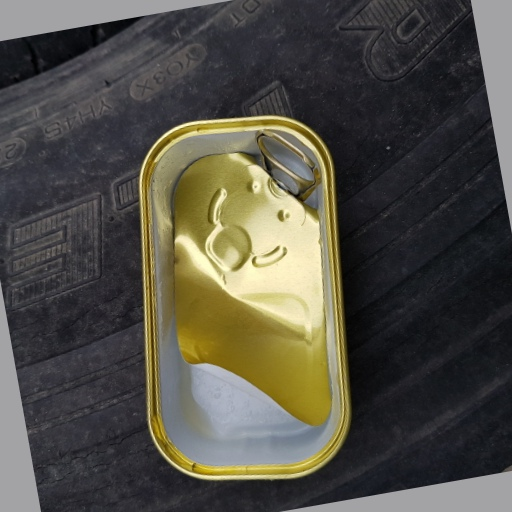Metal_2: (137, 116, 353, 481)
